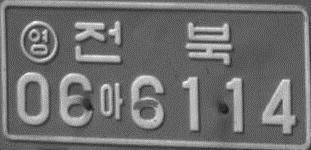0: (14, 69, 51, 125)
1: (175, 74, 209, 132), (221, 77, 255, 134)
4: (260, 79, 296, 134)
6: (58, 71, 93, 127), (129, 73, 164, 129)
아: (99, 82, 124, 120)
영: (19, 19, 58, 63)
전북_D: (72, 19, 234, 66)
